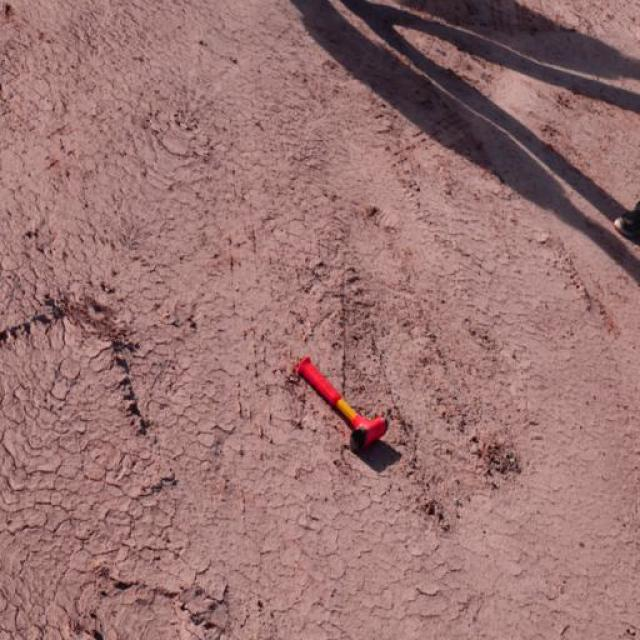mallet: (296, 354, 390, 451)
